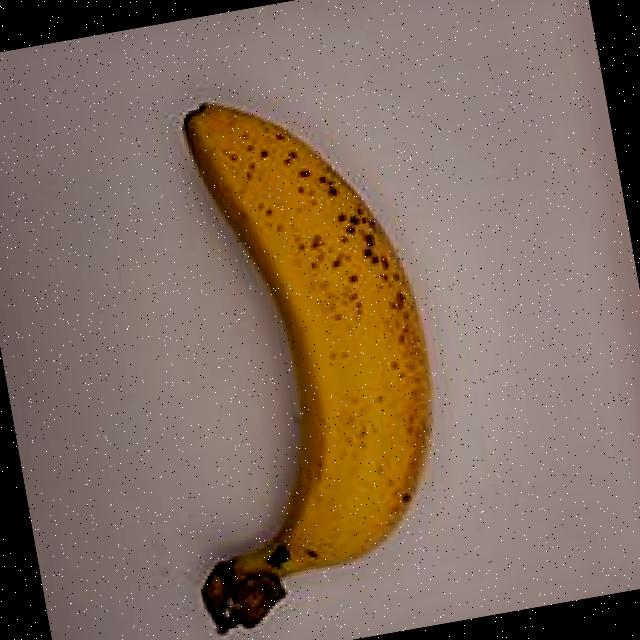Overripe: (75, 45, 502, 640)
